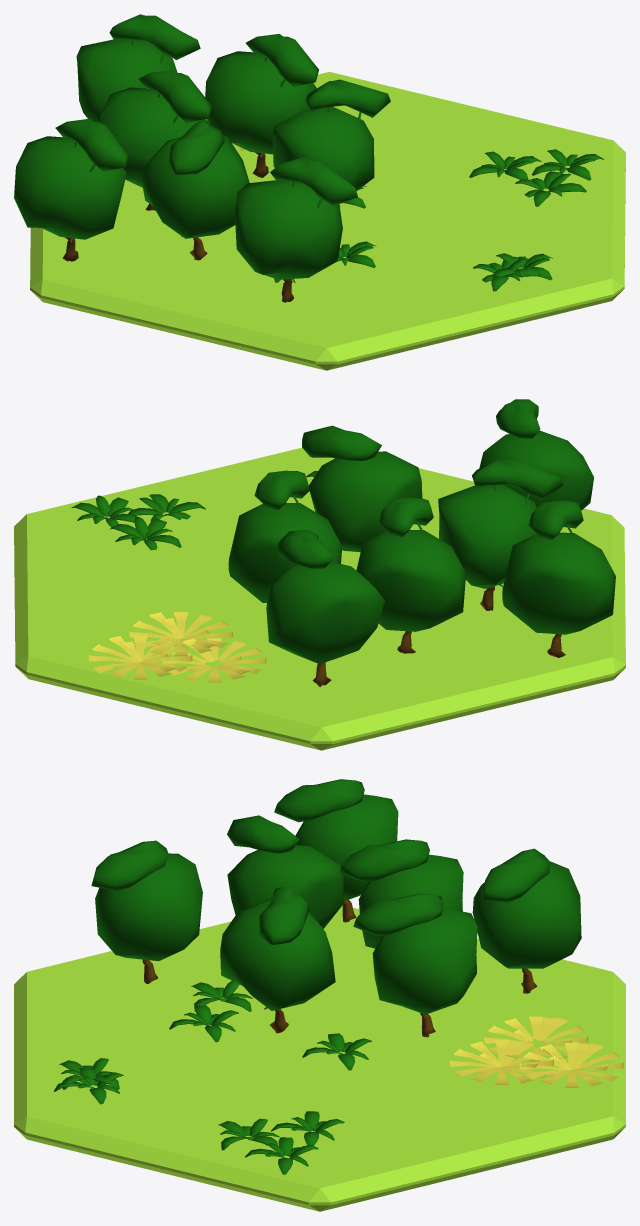
Rendered from tile1length.fbx.
3 renders of one model, top to bottom at view 1: azimuth 30°, elevation 25°; view 2: azimuth 150°, elevation 25°; view 3: azimuth 270°, elevation 25°, orthographic. The views are drawn at different scales.
Parts seen in each view (by area): view 1: Cylinder.001; view 2: Cylinder.001; view 3: Cylinder.001.
Boxes of the visible parts, <box> form: Cylinder.001: <box>14,14,625,370</box>; Cylinder.001: <box>14,399,625,750</box>; Cylinder.001: <box>14,779,625,1211</box>.
Size of the model in its own units: 115 by 30.79 by 100.
